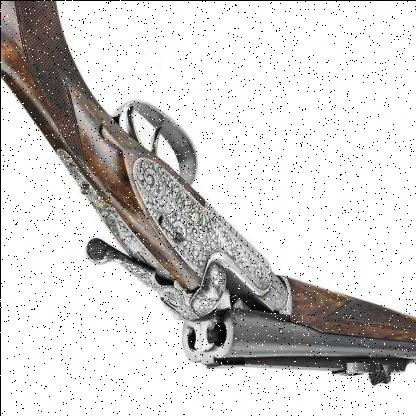rifle: (2, 1, 416, 392)
